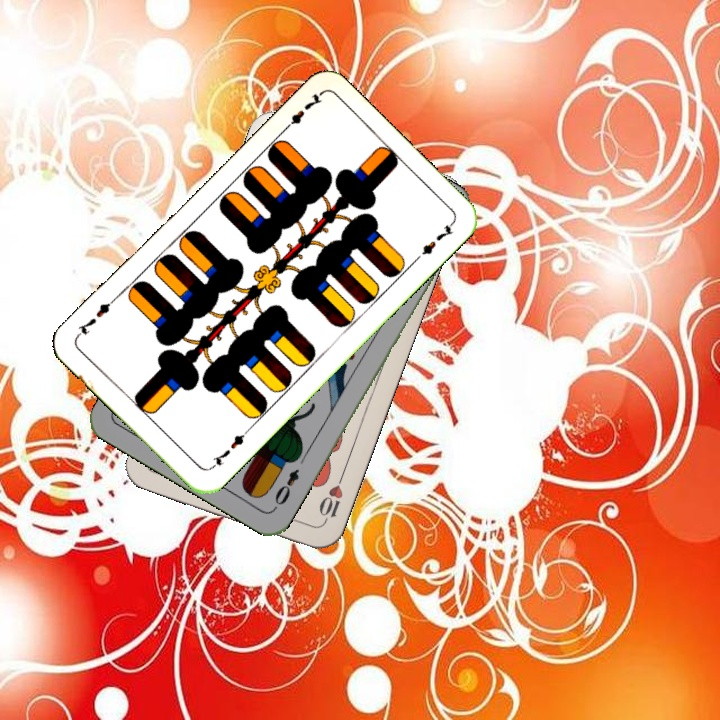E7: (205, 425, 252, 472), (277, 90, 325, 135)
EO: (270, 464, 302, 508)
H10: (314, 471, 346, 528)
